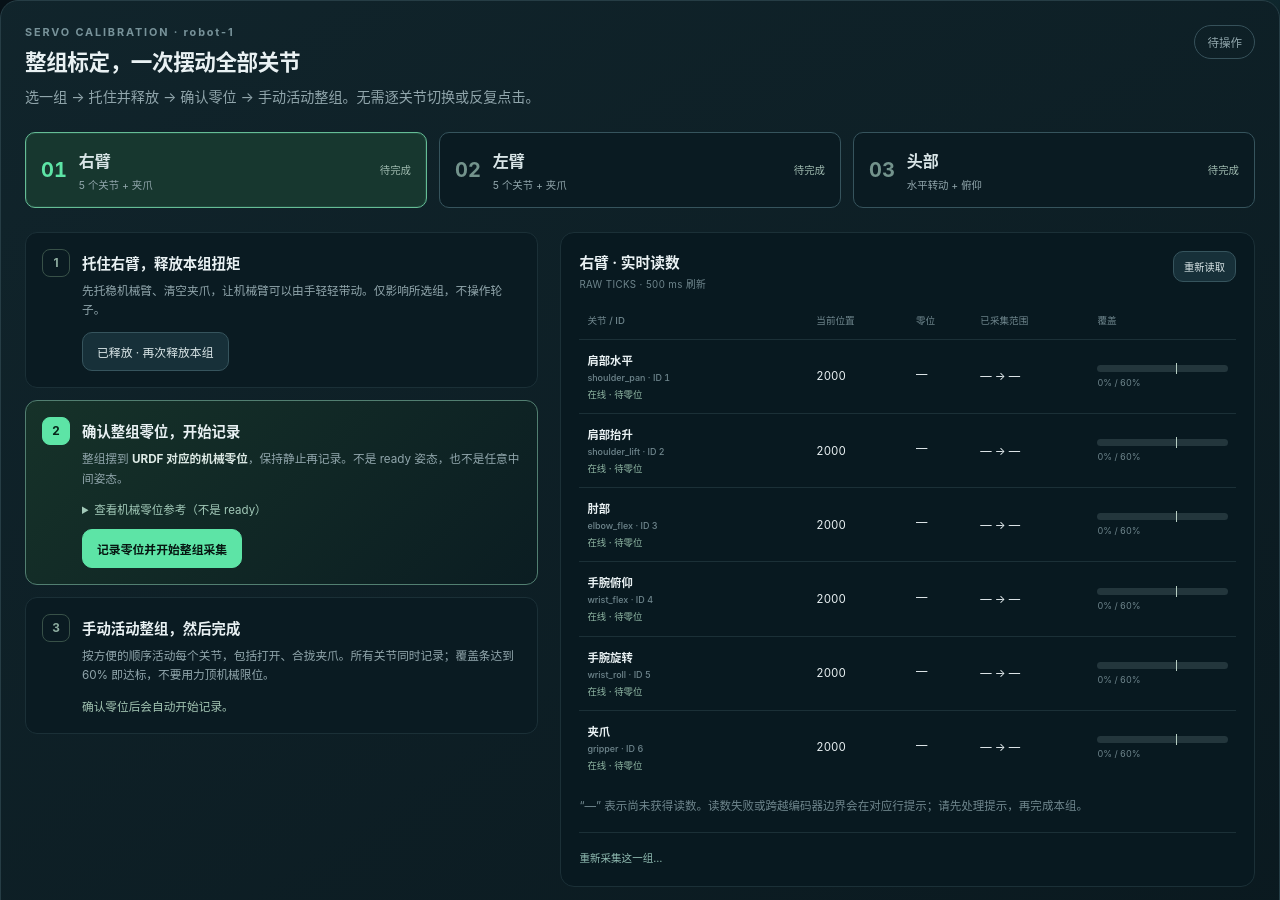
Test: whole-group servo calibration › does not chain range recording if zero capture fails
Click the button "记录零位并开始整组采集" at x=162, y=548, box x1=82 y1=529 x2=242 y2=568
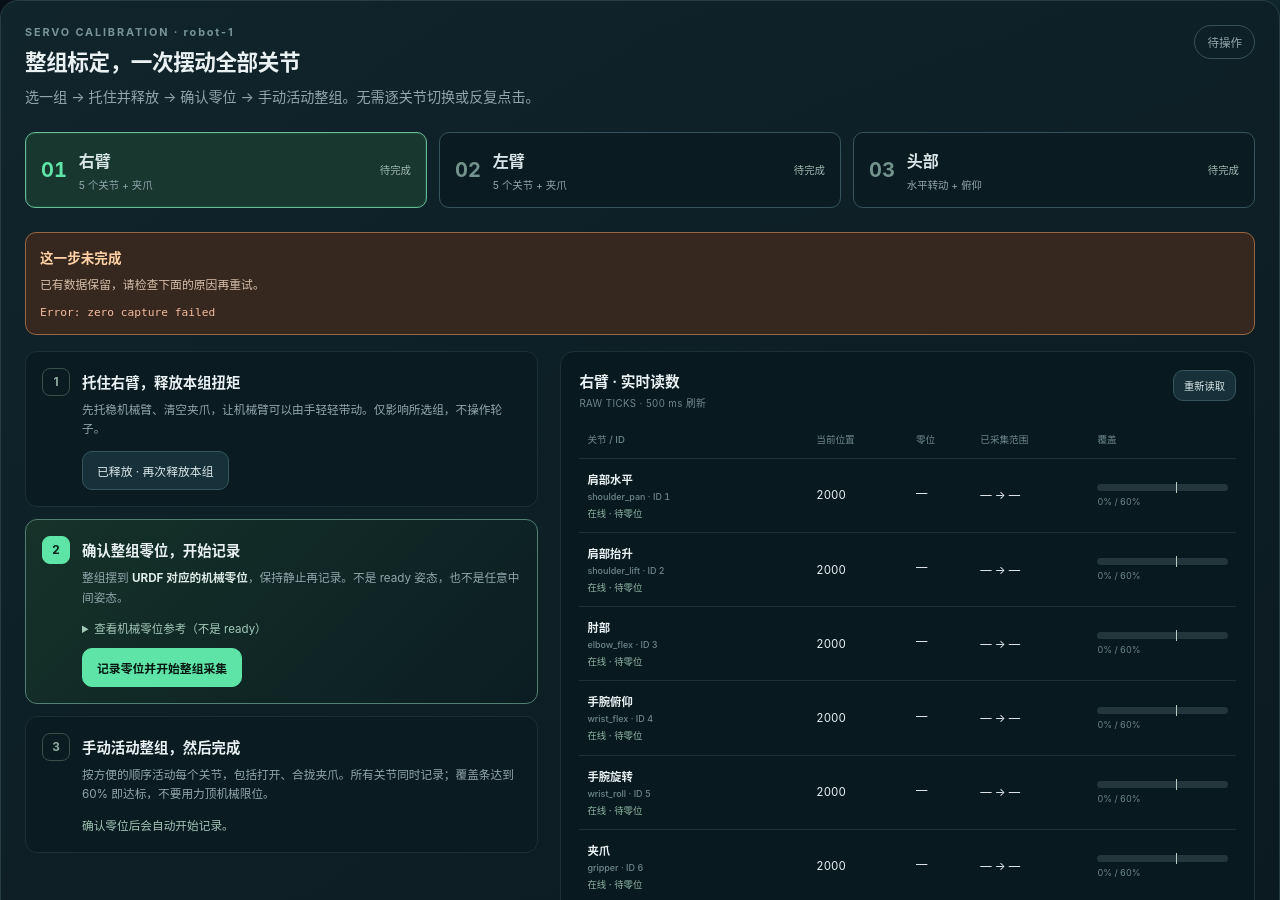
expect the message shows "zero capture failed": met, box x1=40 y1=306 x2=215 y2=319
